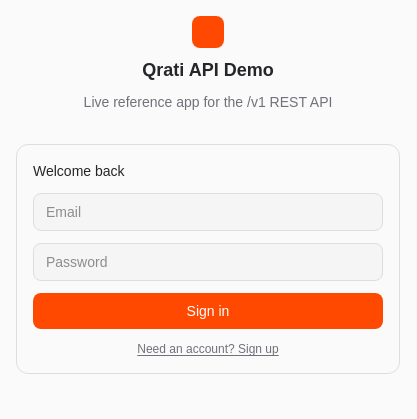
LoginPage › shows the error message and does not redirect on sign-in failure
Type "a@b.com" into the field with placeholder "Email" at (208, 212), box [33, 193, 383, 231]
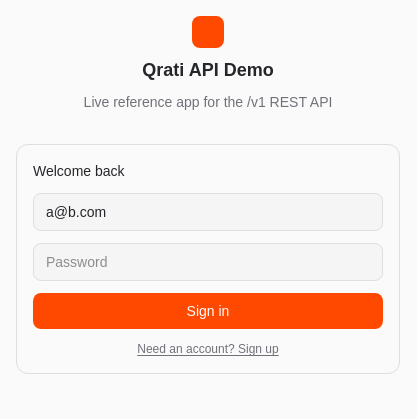
Type "wrong" into the password field with placeholder "Password" at (208, 262), box [33, 243, 383, 281]
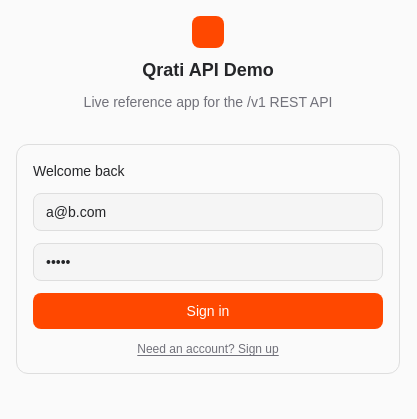
Click the button "Sign in" at (208, 311), box [33, 293, 383, 329]
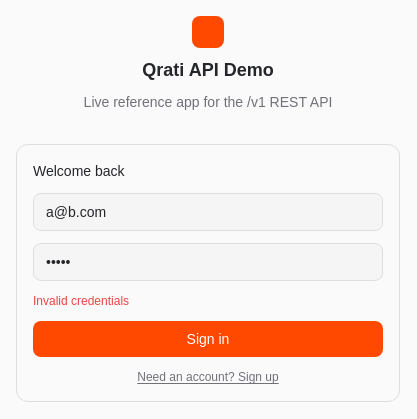
Expected: the text "Invalid credentials" is shown, [33, 294, 129, 308]
